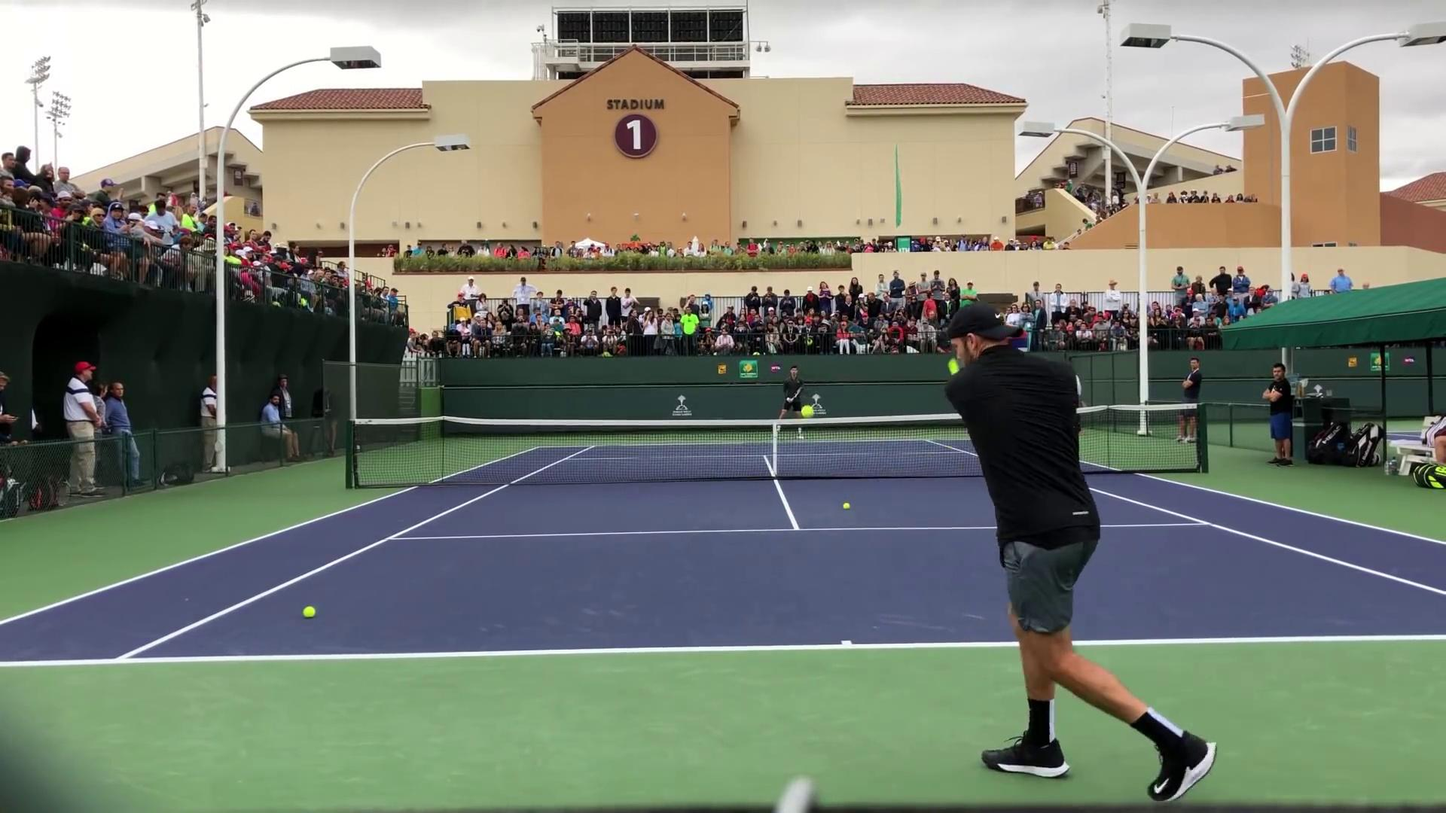ball: (801, 403, 816, 418), (302, 604, 316, 617), (842, 502, 850, 510)
